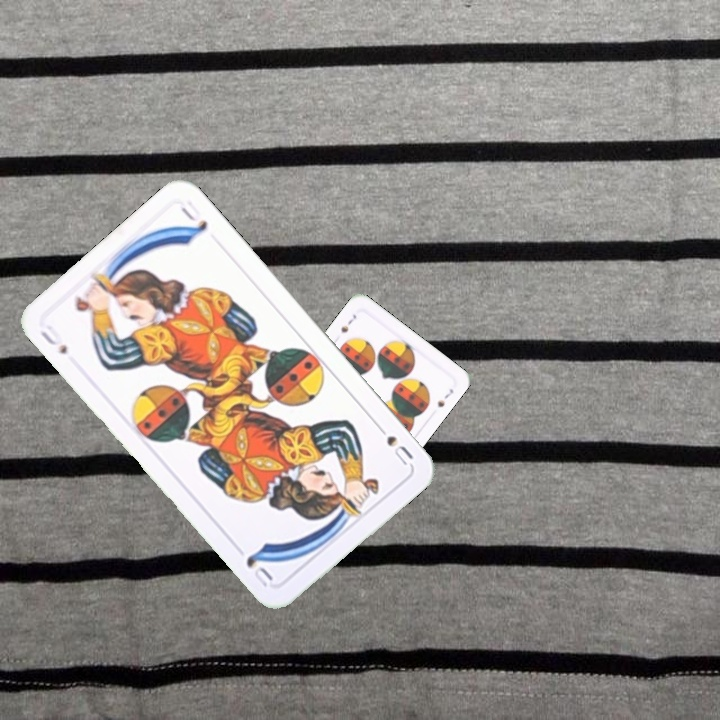S7: (337, 310, 359, 335)
SU: (370, 418, 416, 468), (36, 320, 70, 357)
